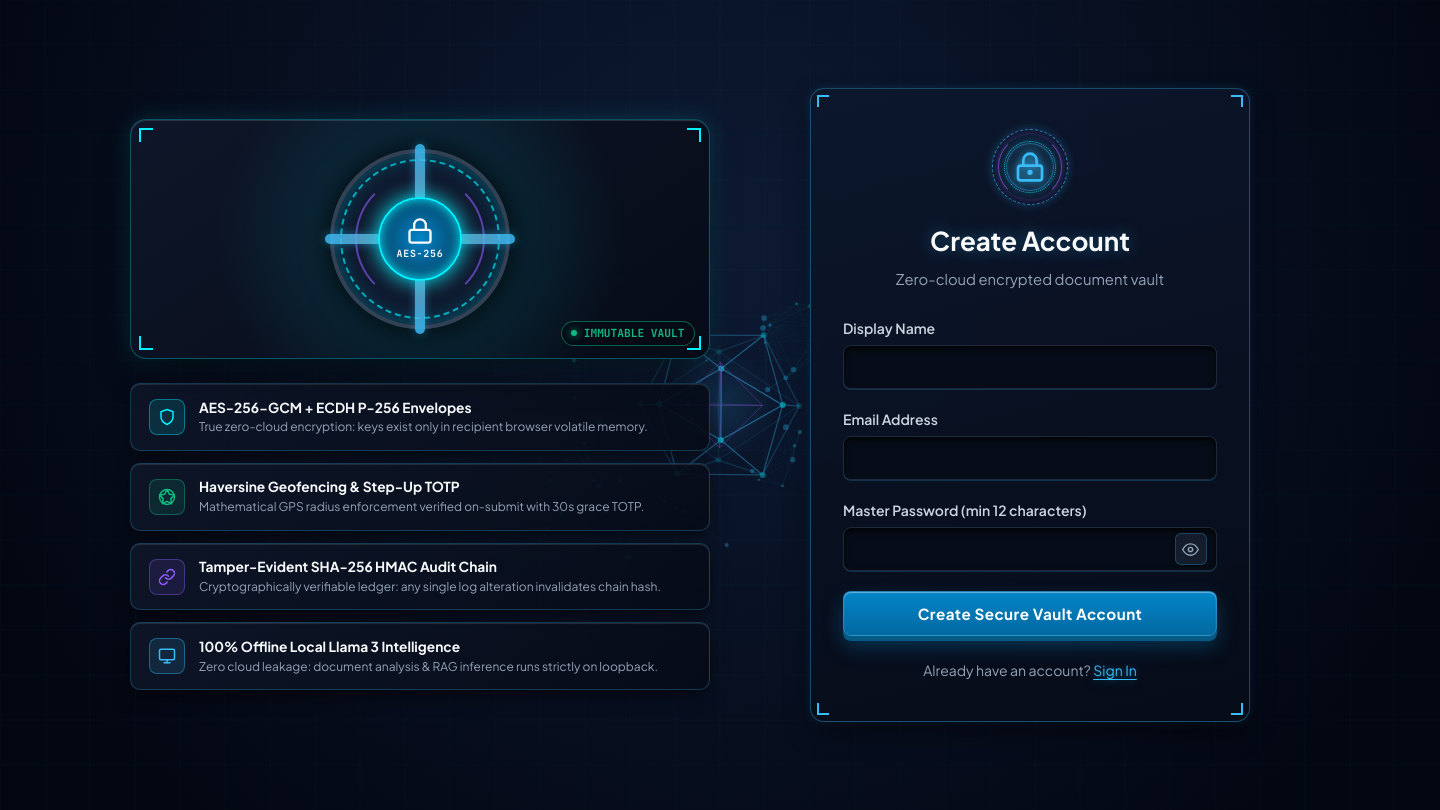
it: Register Component Tests › displays structured server validation details on 400 response
The image size is (1440, 810).
Type "Alice Test" into the field labelled "Display Name".
click(1030, 367); type("Alice Test")  # box x1=843 y1=345 x2=1217 y2=389
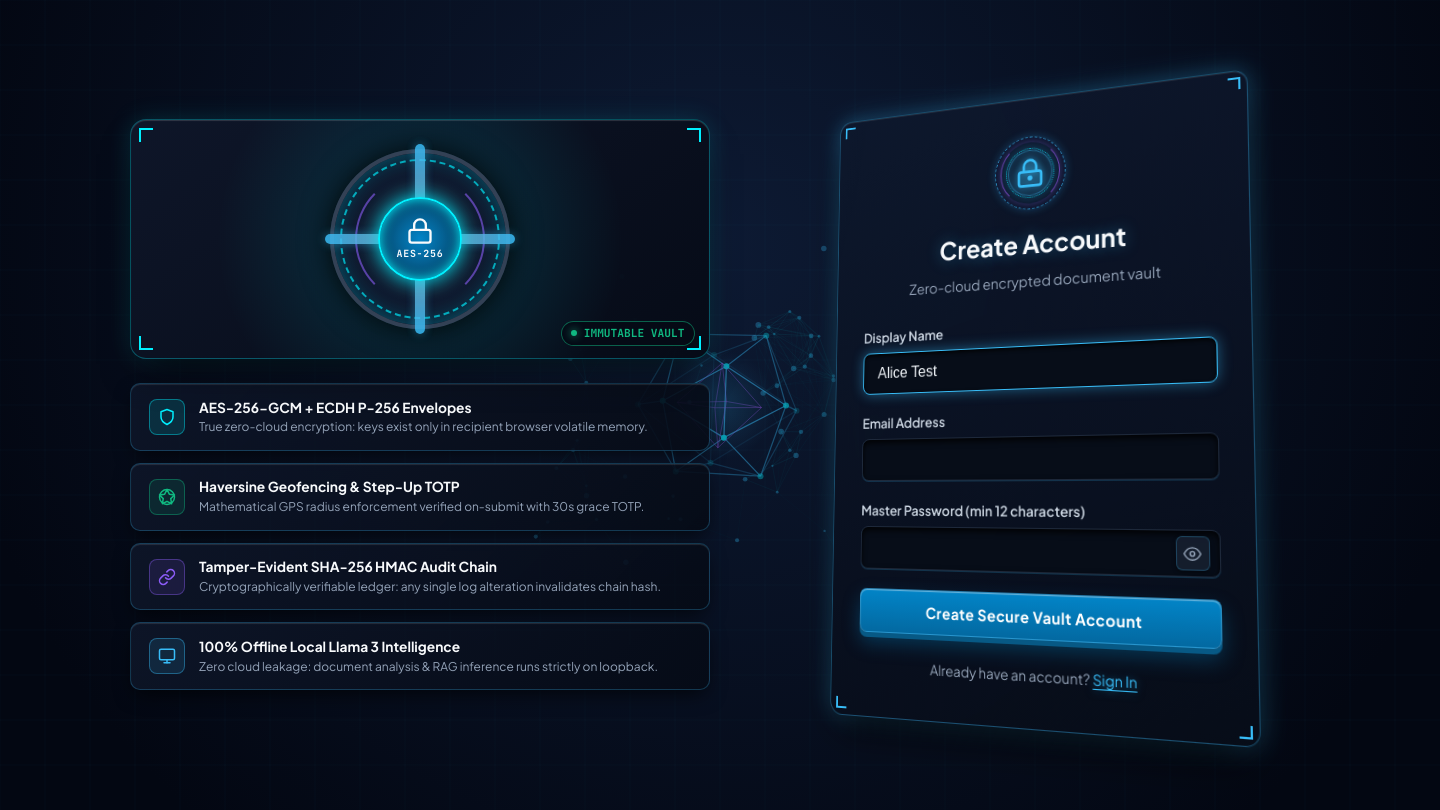
Type "alice@test.com" into the field labelled "Email Address".
click(1041, 457); type("alice@test.com")  # box x1=862 y1=432 x2=1220 y2=481
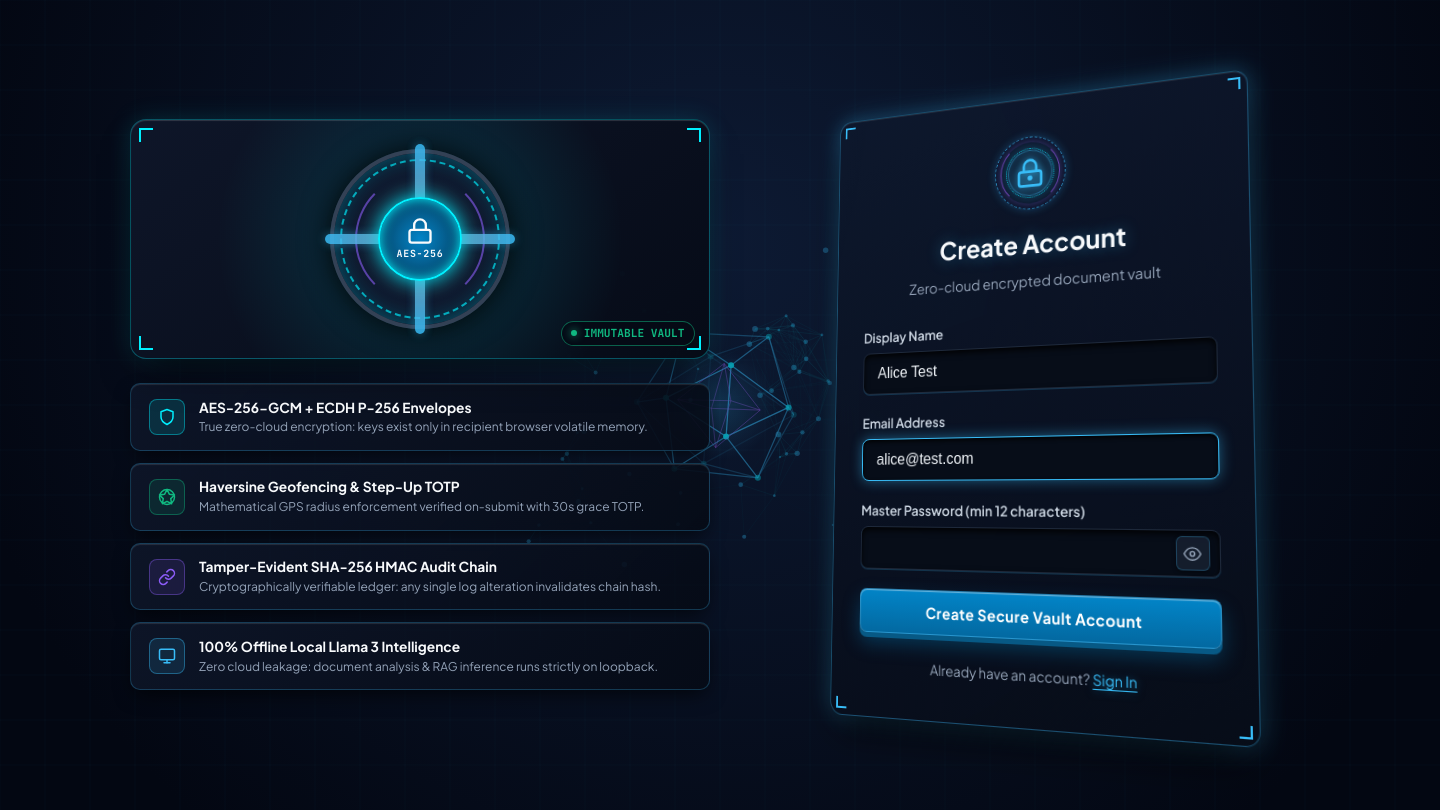
Type "Password123456" into the password field labelled "Master Password (min 12 characters)".
click(1041, 552); type("Password123456")  # box x1=860 y1=526 x2=1221 y2=578
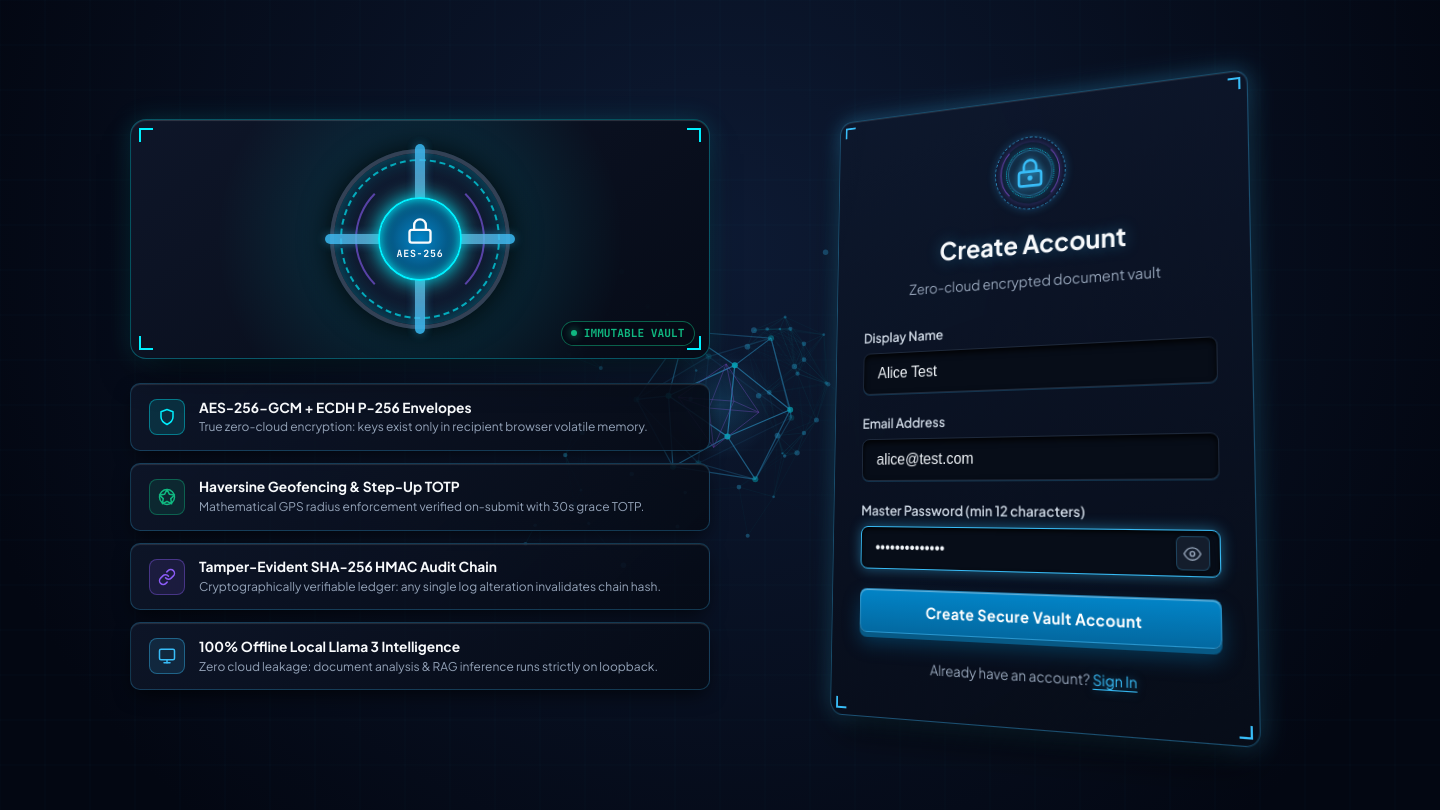
Click the button "Create Secure Vault Account".
click(1041, 619)  # box x1=860 y1=588 x2=1223 y2=650
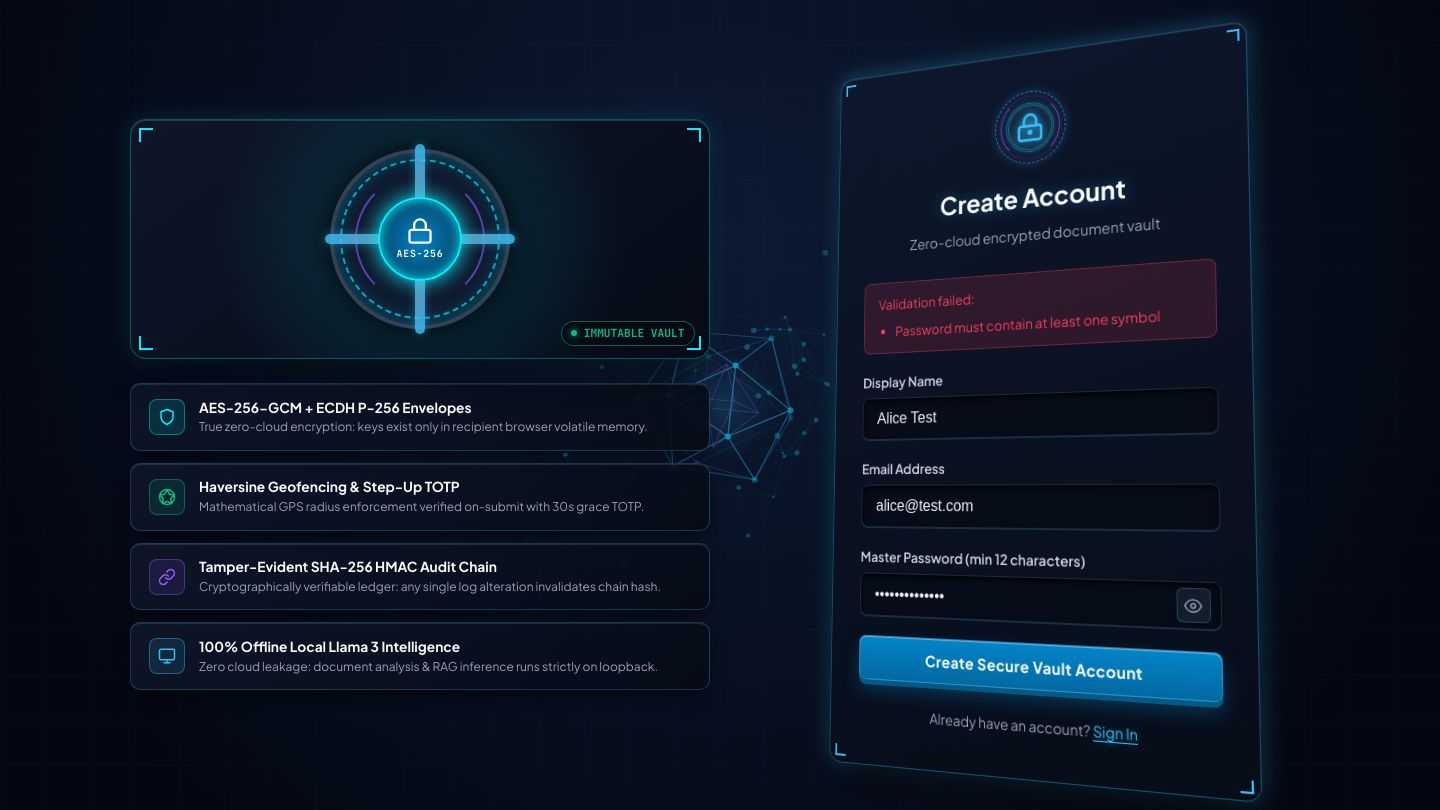
Expected: the text "Validation failed:" is shown, x1=879 y1=290 x2=975 y2=313
Expected: the list item "Password must contain at least one symbol" is shown, x1=895 y1=303 x2=1199 y2=341
